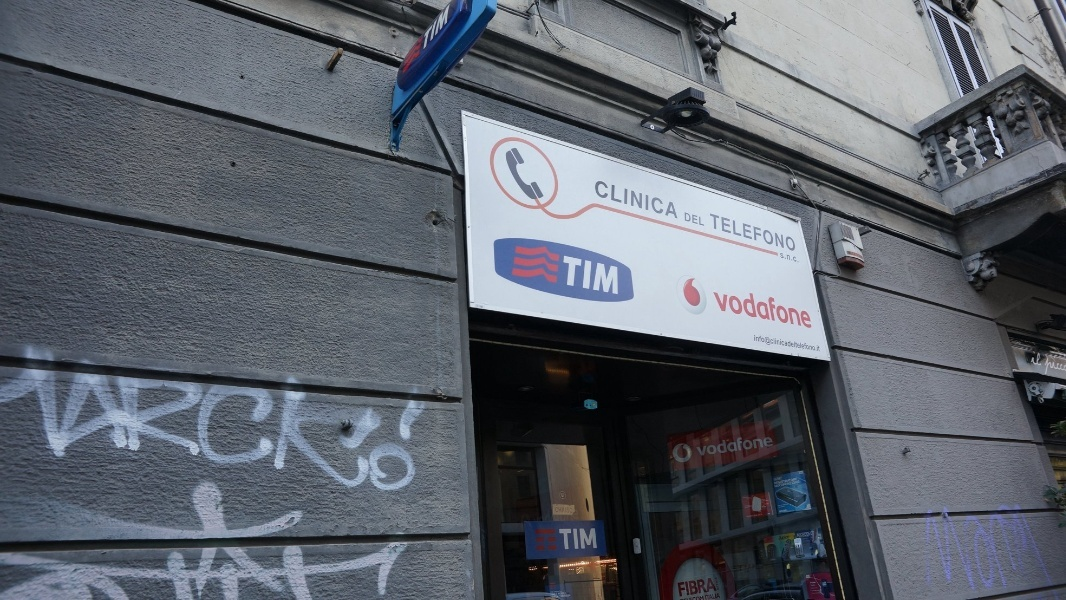text: (17, 330, 32, 504), (33, 330, 48, 504), (49, 330, 64, 504), (65, 330, 80, 504), (81, 330, 96, 504), (97, 330, 112, 504), (113, 330, 128, 504), (129, 330, 144, 504), (145, 330, 160, 504), (161, 330, 176, 504), (177, 330, 192, 504), (193, 330, 208, 504), (209, 330, 224, 504), (225, 330, 240, 504), (241, 330, 256, 504), (257, 330, 272, 504), (273, 330, 288, 504), (289, 330, 304, 504), (305, 330, 320, 504), (321, 330, 336, 504), (337, 330, 352, 504), (353, 330, 368, 504), (369, 330, 384, 504), (385, 330, 400, 504), (401, 330, 416, 504), (417, 330, 430, 504), (6, 330, 16, 504), (929, 505, 944, 592), (945, 505, 960, 592), (961, 505, 976, 592), (977, 505, 992, 592), (993, 505, 1008, 592), (1009, 505, 1024, 592), (1025, 505, 1040, 592), (1041, 505, 1052, 592), (721, 280, 736, 329), (737, 280, 752, 329), (753, 280, 768, 329), (769, 280, 784, 329), (785, 280, 800, 329), (609, 179, 624, 219), (625, 179, 640, 219), (641, 179, 656, 219), (657, 179, 672, 219), (708, 280, 720, 329), (577, 256, 592, 295), (593, 256, 608, 295), (721, 213, 736, 252), (737, 213, 752, 252), (753, 213, 768, 252), (769, 213, 784, 252), (801, 280, 812, 329), (595, 179, 608, 219), (563, 256, 576, 295), (785, 213, 796, 252), (609, 256, 619, 295), (710, 213, 720, 252), (561, 528, 576, 551), (577, 528, 592, 551), (689, 578, 704, 598), (705, 438, 720, 456), (721, 438, 736, 456), (737, 438, 752, 456), (753, 438, 768, 456), (769, 335, 784, 352), (785, 335, 800, 352), (801, 335, 816, 352), (705, 578, 717, 598), (673, 179, 679, 219), (755, 335, 768, 352), (692, 438, 704, 456), (689, 212, 704, 226), (678, 578, 688, 598), (785, 253, 800, 263), (785, 480, 800, 488), (593, 528, 598, 551), (769, 438, 775, 456), (705, 593, 720, 600), (801, 531, 815, 538), (785, 477, 797, 485), (561, 591, 572, 599), (927, 505, 928, 592), (774, 477, 784, 485), (550, 591, 560, 599), (561, 507, 574, 513), (775, 480, 784, 488), (817, 335, 821, 352), (774, 476, 784, 481), (685, 212, 688, 226), (717, 578, 720, 591), (785, 536, 790, 542), (781, 253, 784, 263), (555, 507, 560, 513), (780, 536, 784, 542), (797, 531, 800, 538), (705, 212, 706, 226)
